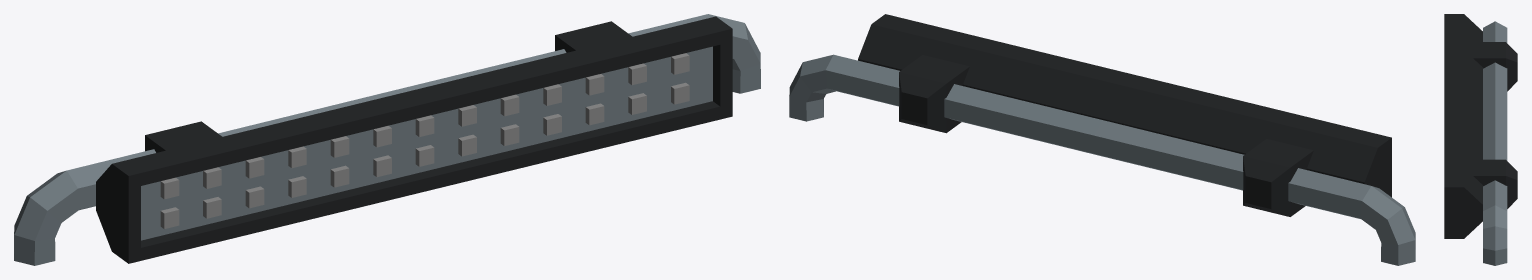
File: SM_Veh_Attach_Light_01.fbx
3 views of the same model, side by side, from view 1: azimuth 30°, elevation 25°; view 2: azimuth 150°, elevation 25°; view 3: azimuth 270°, elevation 25° (orthographic). The views are drawn at different scales.
Parts seen in each view (by area): view 1: SM_Veh_Attach_Light_01; view 2: SM_Veh_Attach_Light_01; view 3: SM_Veh_Attach_Light_01.
Boxes of the visible parts, box(x1,y1,x2,y2) form: SM_Veh_Attach_Light_01: box(14, 14, 760, 265); SM_Veh_Attach_Light_01: box(789, 14, 1415, 265); SM_Veh_Attach_Light_01: box(1444, 14, 1517, 265).
Bounding box in the file's own units: 132 × 16.73 × 19.04.
